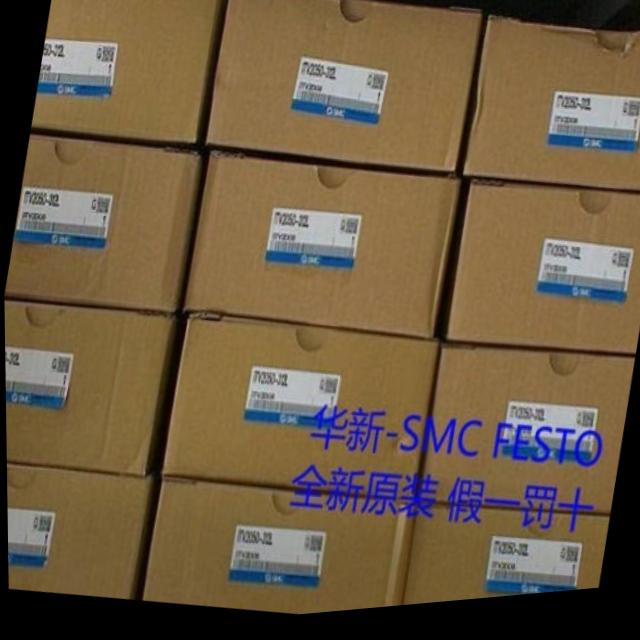box: (180, 153, 460, 346), (160, 322, 438, 512), (204, 0, 483, 183), (414, 350, 633, 525), (139, 481, 413, 620), (3, 134, 204, 315), (444, 189, 640, 367), (462, 24, 640, 203), (3, 300, 175, 480), (30, 0, 221, 145), (400, 511, 607, 613), (5, 463, 147, 601)
